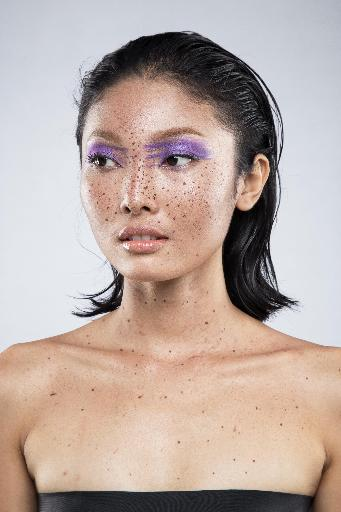left_eye: (161, 151, 200, 171)
left_lip_corner: (160, 231, 171, 246)
right_eye: (89, 155, 124, 173)
right_lip_corner: (117, 233, 126, 249)
